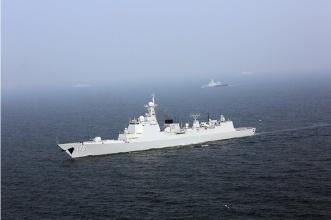warship: (54, 97, 256, 159)
